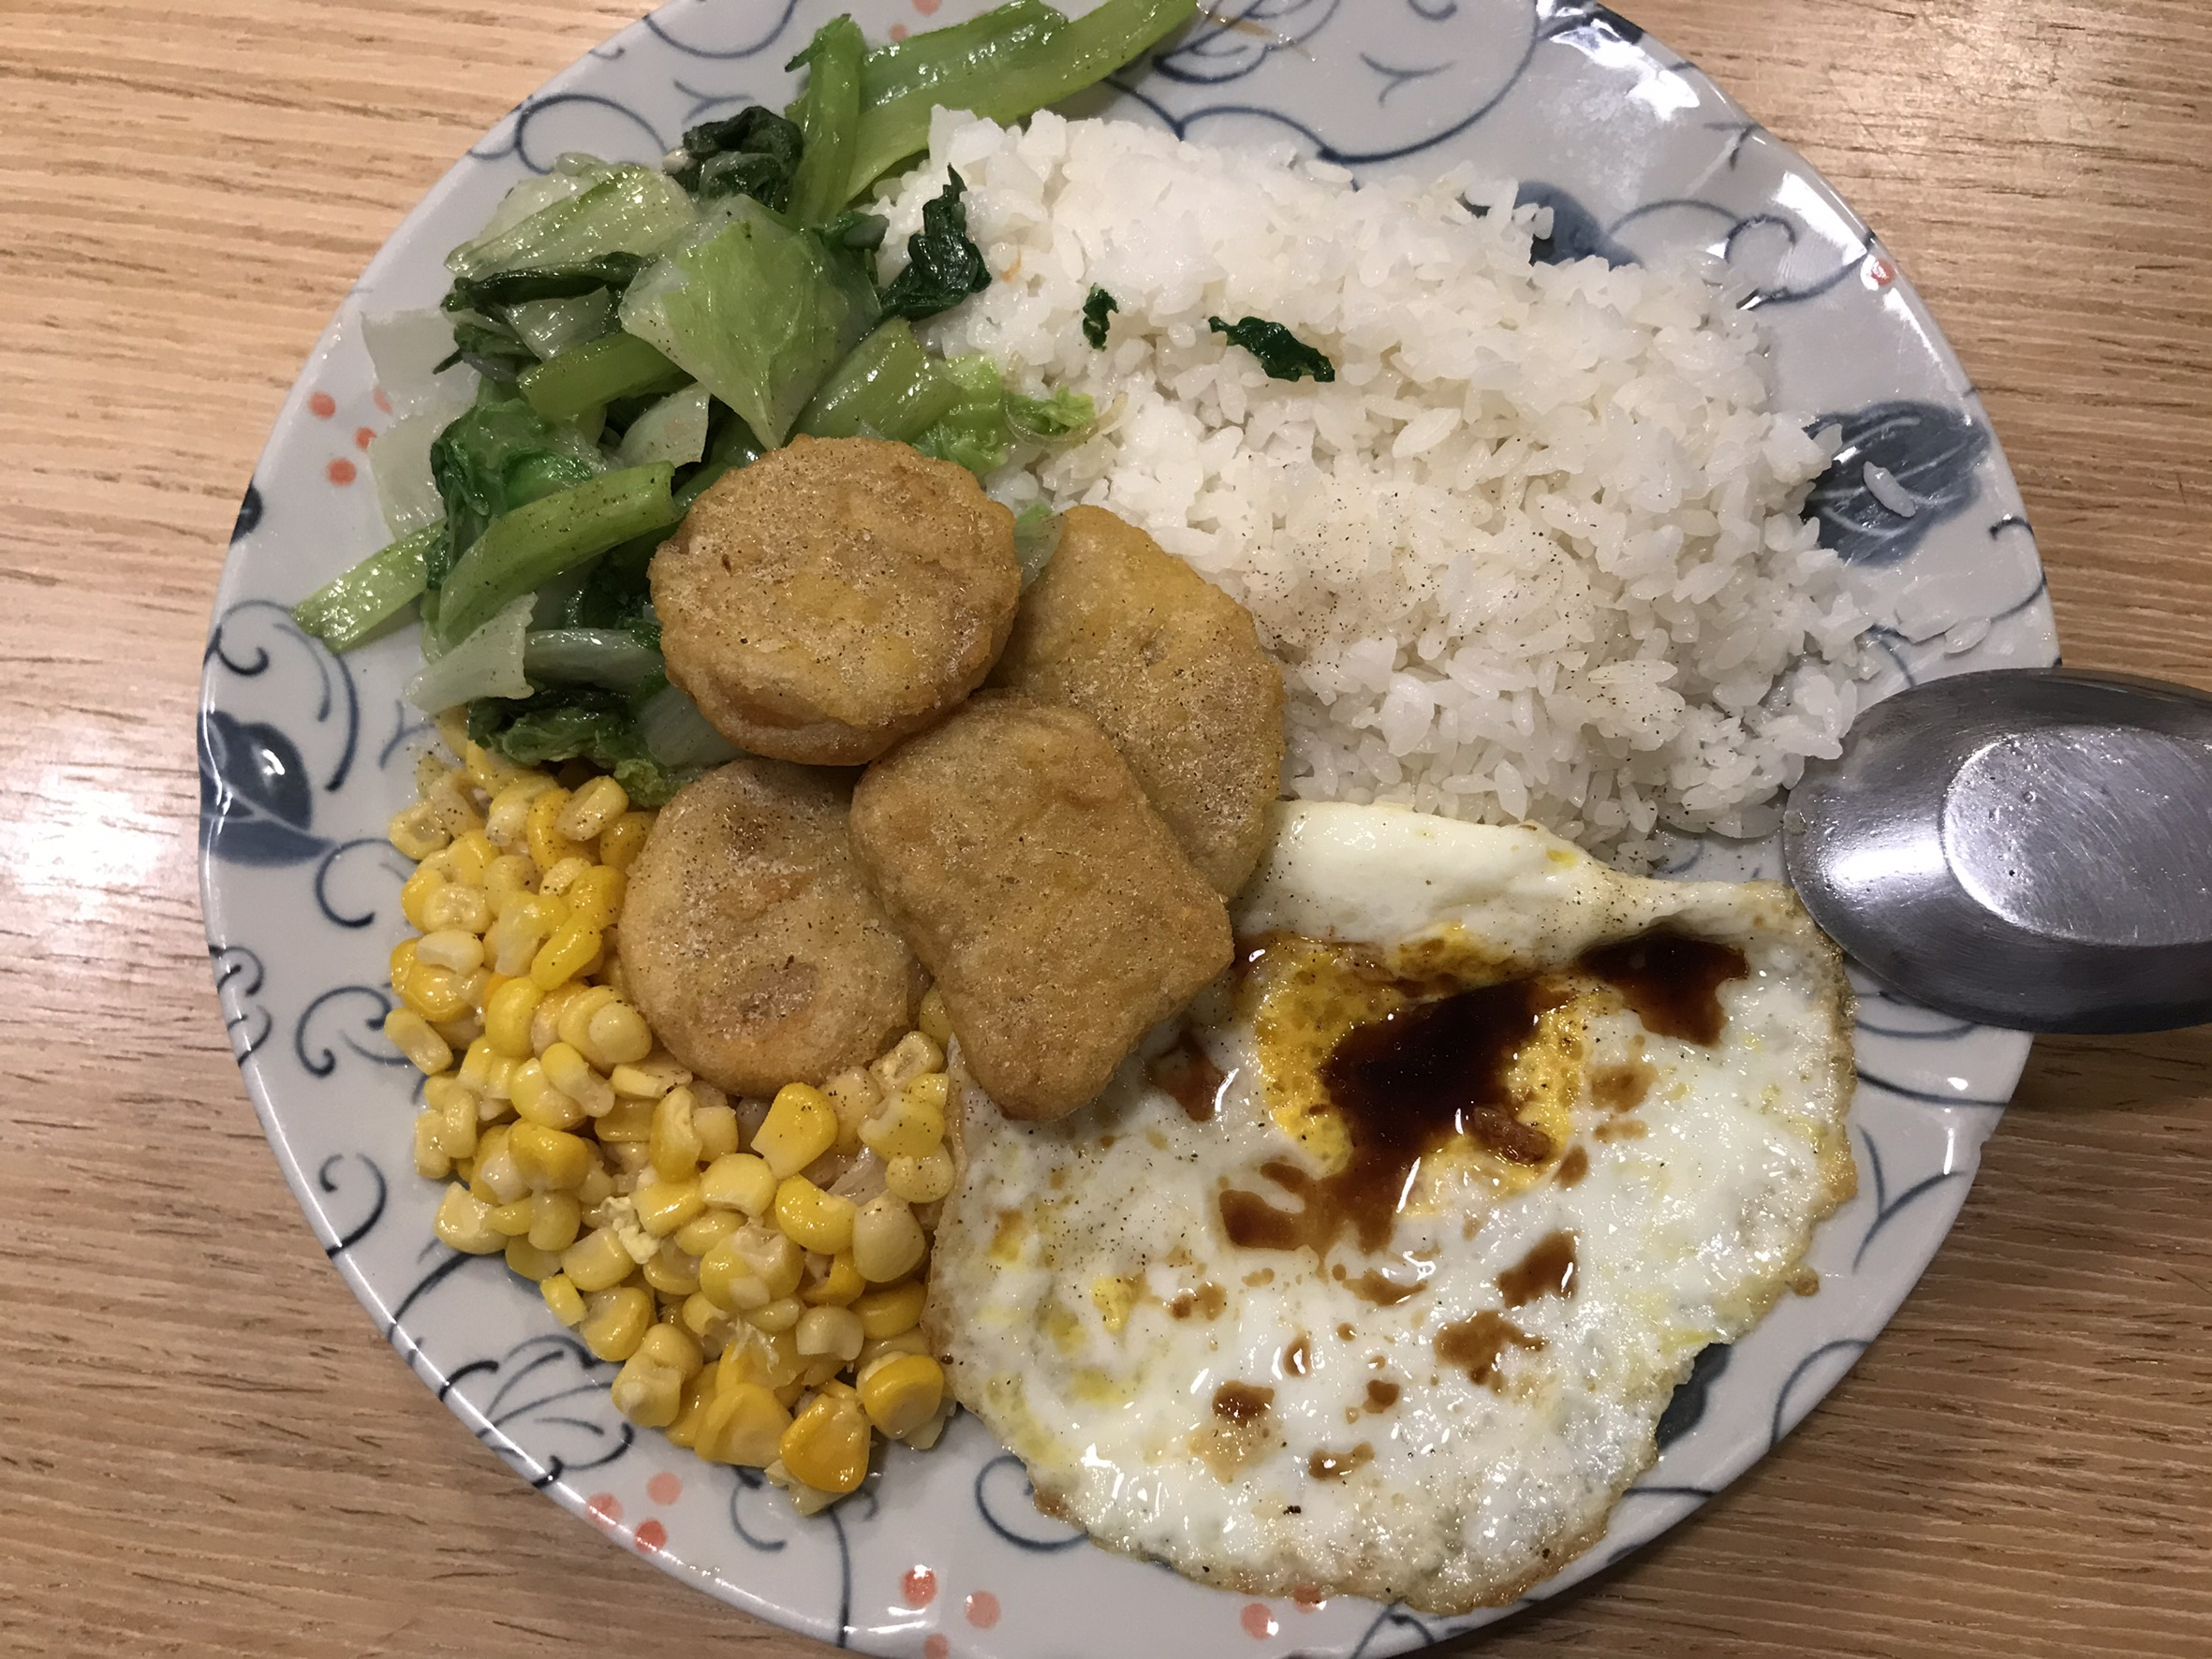chicken_nuggets: (633, 436, 1279, 1114)
fried_eggs: (952, 885, 1825, 1589)
rice: (1276, 228, 1747, 803)
